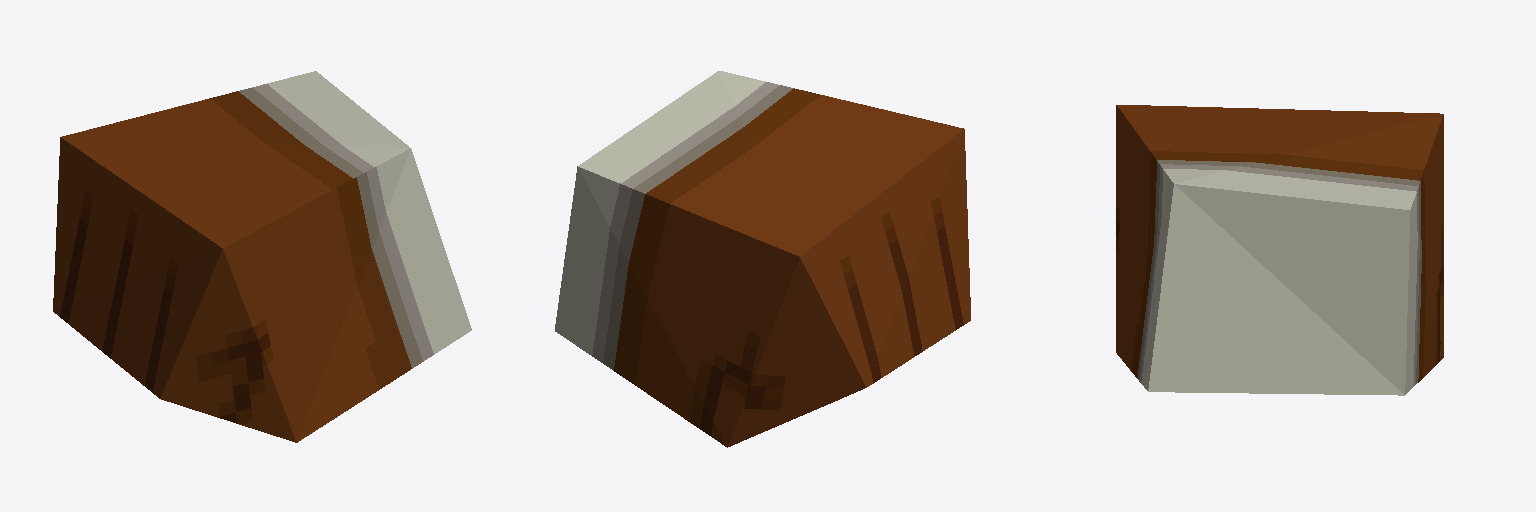
3 renders of one model, left to right at view 1: azimuth 30°, elevation 25°; view 2: azimuth 150°, elevation 25°; view 3: azimuth 270°, elevation 25°, orthographic.
Parts seen in each view (by area): view 1: RightHand_Arms.004; view 2: RightHand_Arms.004; view 3: RightHand_Arms.004.
Boxes of the visible parts, box(x1,y1,x2,y2) form: RightHand_Arms.004: box(53, 71, 471, 442); RightHand_Arms.004: box(555, 71, 970, 447); RightHand_Arms.004: box(1116, 105, 1443, 395).
Bounding box in the file's own units: 0.6862 × 0.5297 × 0.6447.
1 materials, 1 textured.